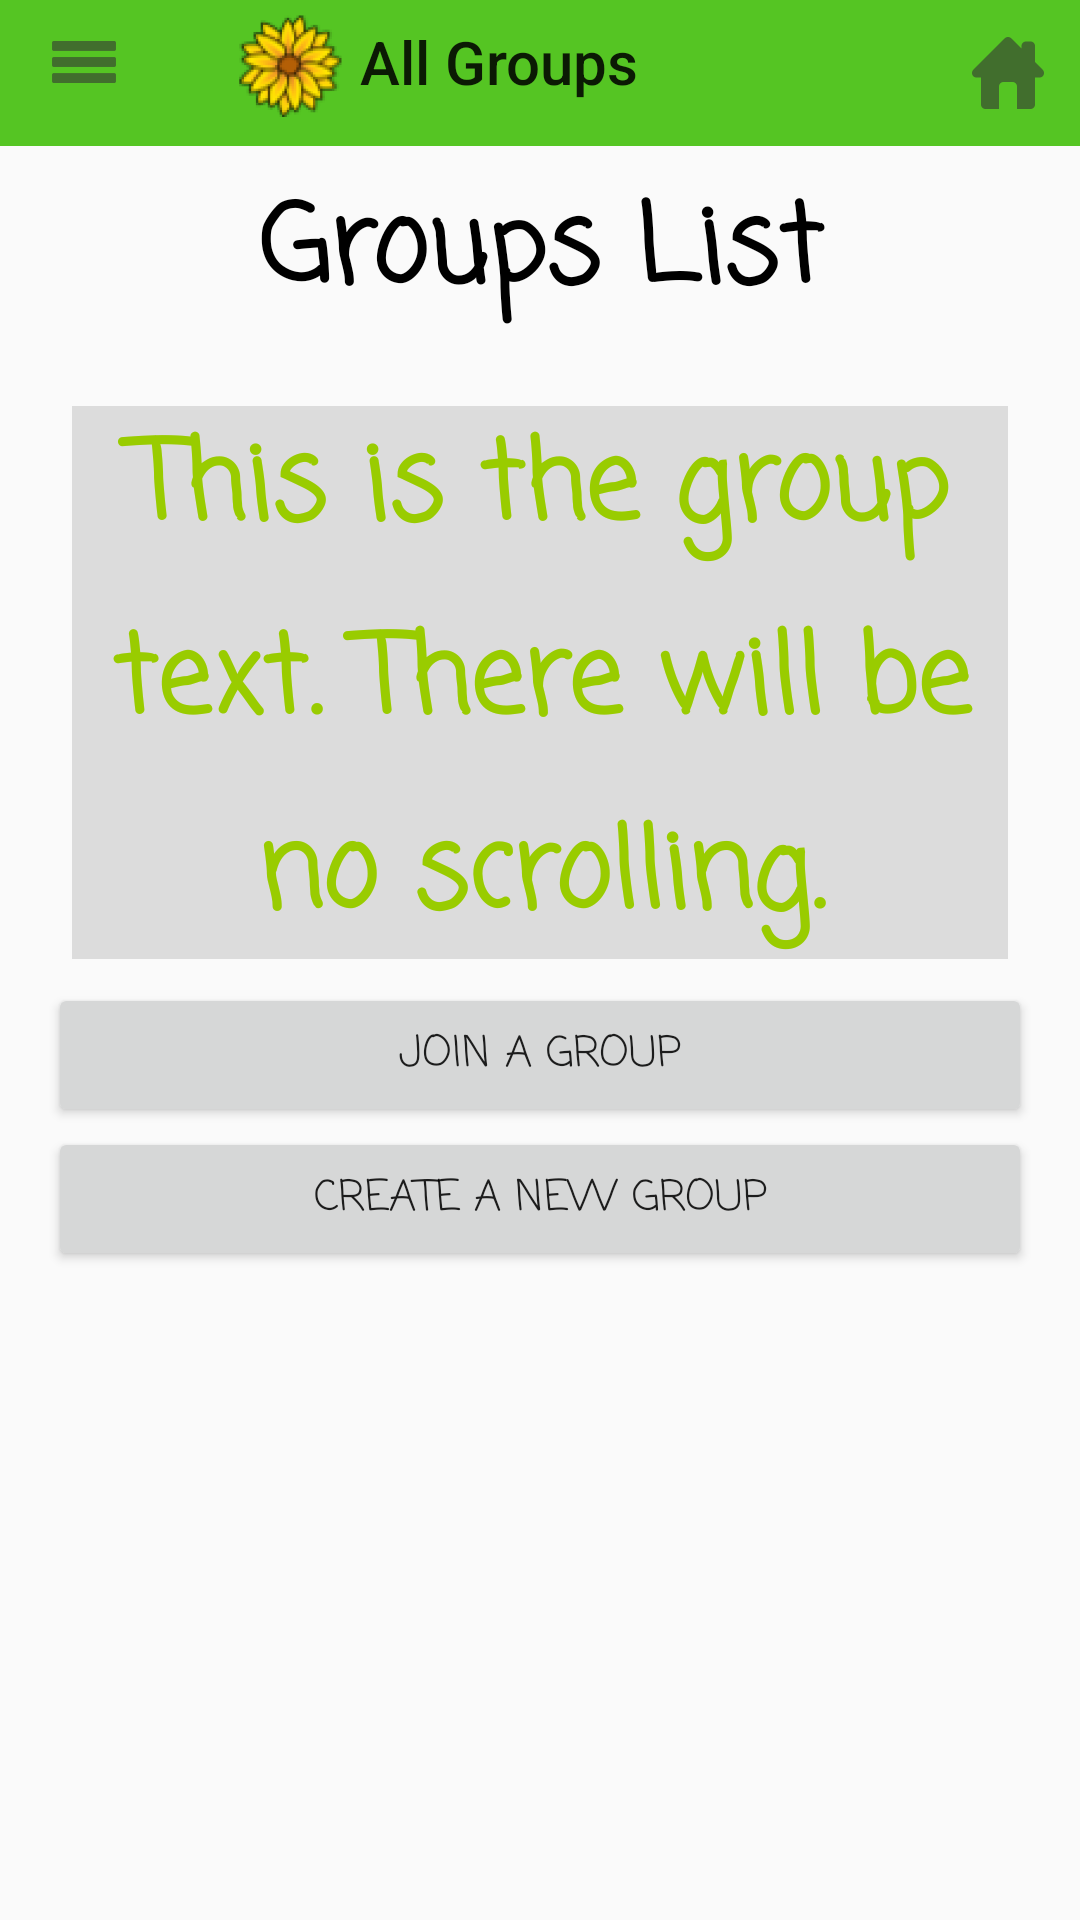

Screen size 1080px x 1920px. Icon name, then its center in pixels as (x,y):
home: (1008,73)
